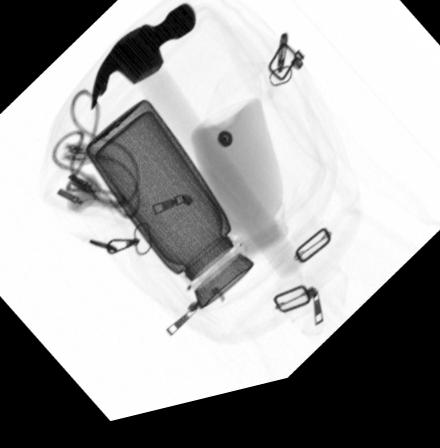Hammer: (91, 9, 307, 298)
